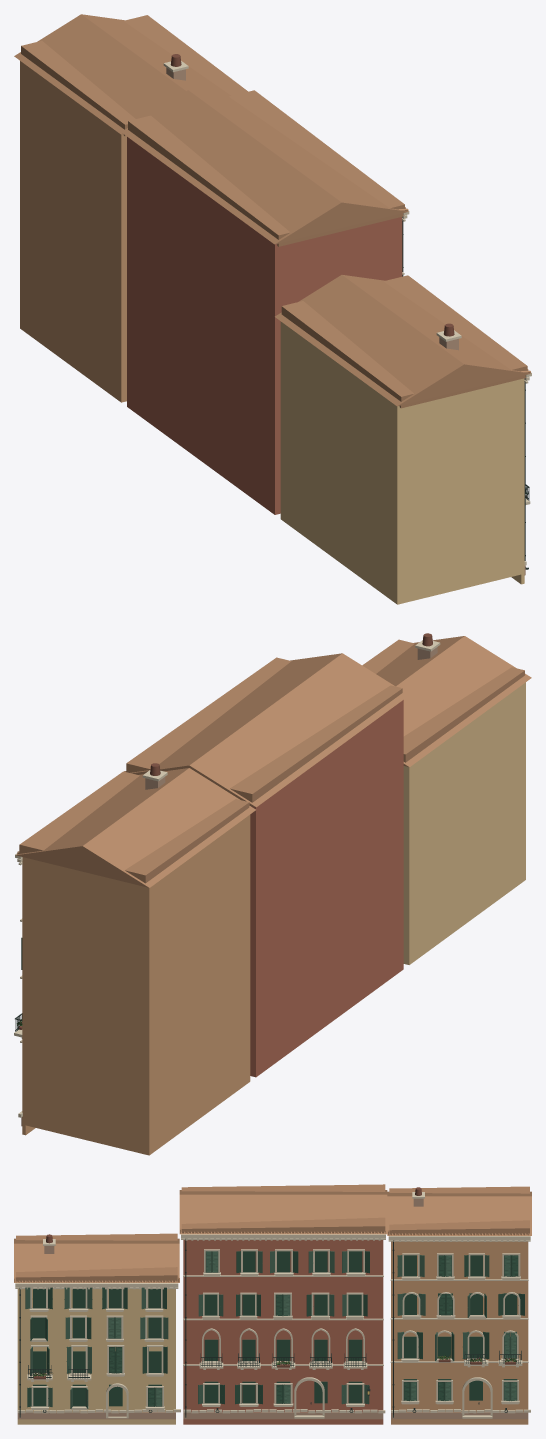
The model's file is canal-10.glb.
3 views of the same model, one above another, from view 1: azimuth 30°, elevation 25°; view 2: azimuth 150°, elevation 25°; view 3: azimuth 270°, elevation 25° (orthographic). The views are drawn at different scales.
Visible parts, largest first — view 1: Main elevations / kit:walls:2, Main elevations / kit:walls:4, Main elevations / kit:roof, Main elevations / kit:walls:0, Distant elevations / kit:roof, Distant elevations / kit:walls:2, Distant elevations / kit:walls:4; view 2: Main elevations / kit:walls:0, Main elevations / kit:walls:4, Main elevations / kit:roof, Main elevations / kit:walls:2, Distant elevations / kit:roof, Distant elevations / kit:walls:4; view 3: Main elevations / kit:walls:4, Main elevations / kit:stone, Main elevations / kit:roof, Distant elevations / kit:walls:0, Distant elevations / kit:greenDark, Main elevations / kit:walls:2, Distant elevations / kit:roof, Main elevations / kit:green, Main elevations / kit:greenDark, Main elevations / kit:brick, Near ironwork and plants / kit:iron, Distant elevations / kit:walls:4 (+4 smaller).
Part boxes in pixels (x1,y1,x2,y2): Main elevations / kit:walls:2: [280, 321, 524, 604]; Main elevations / kit:walls:4: [127, 137, 278, 514]; Main elevations / kit:roof: [14, 14, 530, 406]; Main elevations / kit:walls:0: [20, 61, 126, 402]; Distant elevations / kit:roof: [21, 15, 527, 408]; Distant elevations / kit:walls:2: [401, 379, 524, 603]; Distant elevations / kit:walls:4: [279, 217, 402, 513]; Main elevations / kit:walls:0: [22, 814, 250, 1155]; Main elevations / kit:walls:4: [252, 700, 403, 1077]; Main elevations / kit:roof: [16, 636, 531, 887]; Main elevations / kit:walls:2: [403, 682, 525, 964]; Distant elevations / kit:roof: [19, 639, 524, 883]; Distant elevations / kit:walls:4: [250, 806, 252, 1076]; Main elevations / kit:walls:4: [183, 1240, 383, 1424]; Main elevations / kit:stone: [15, 1192, 530, 1418]; Main elevations / kit:roof: [14, 1190, 531, 1282]; Distant elevations / kit:walls:0: [391, 1241, 528, 1412]; Distant elevations / kit:greenDark: [33, 1251, 517, 1406]; Main elevations / kit:walls:2: [17, 1289, 175, 1424]; Distant elevations / kit:roof: [16, 1184, 529, 1281]; Main elevations / kit:green: [25, 1251, 517, 1408]; Main elevations / kit:greenDark: [27, 1251, 524, 1407]; Main elevations / kit:brick: [17, 1198, 528, 1419]; Near ironwork and plants / kit:iron: [19, 1239, 521, 1417]; Distant elevations / kit:walls:4: [203, 1251, 363, 1412].
Size of the model in its own units: 9.21 by 19.55 by 41.96.
